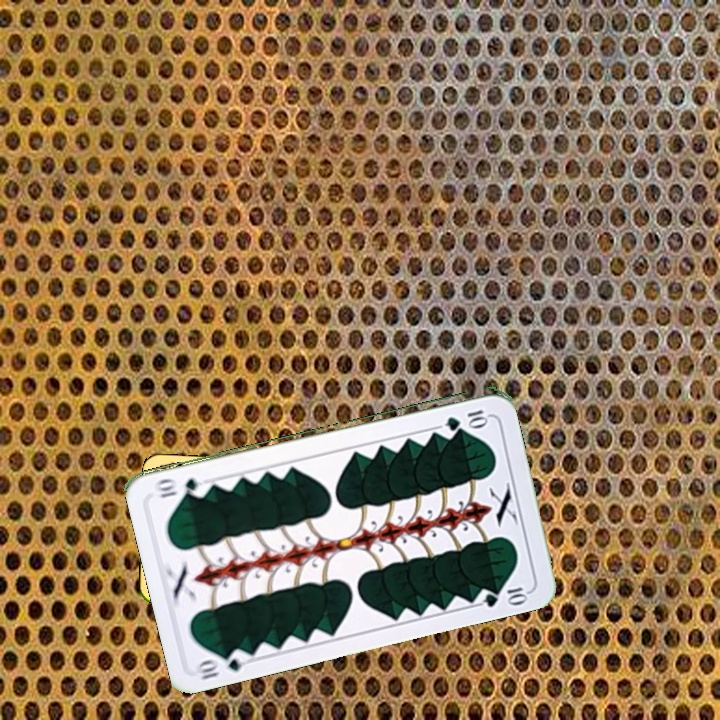G10: (193, 645, 252, 683), (442, 405, 491, 431)
